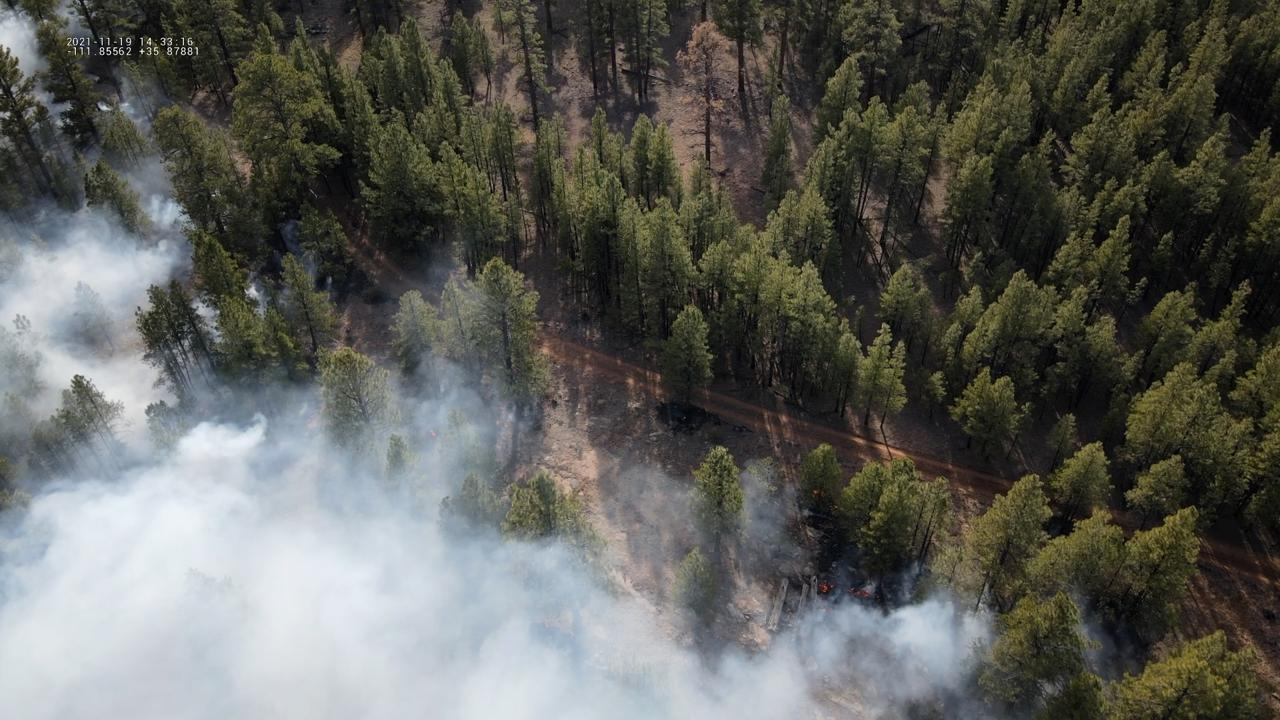fire: (849, 588, 871, 599), (817, 582, 835, 595)
smoke: (0, 0, 1122, 720)
